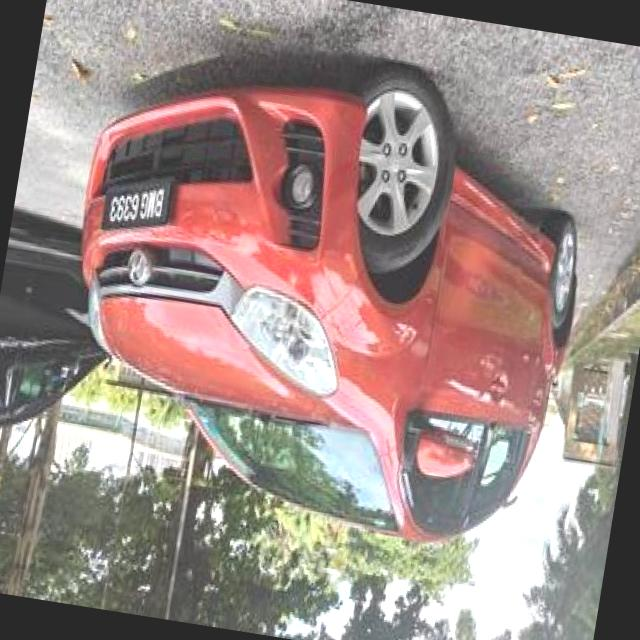PeroduaMyvi: (37, 20, 611, 567)
